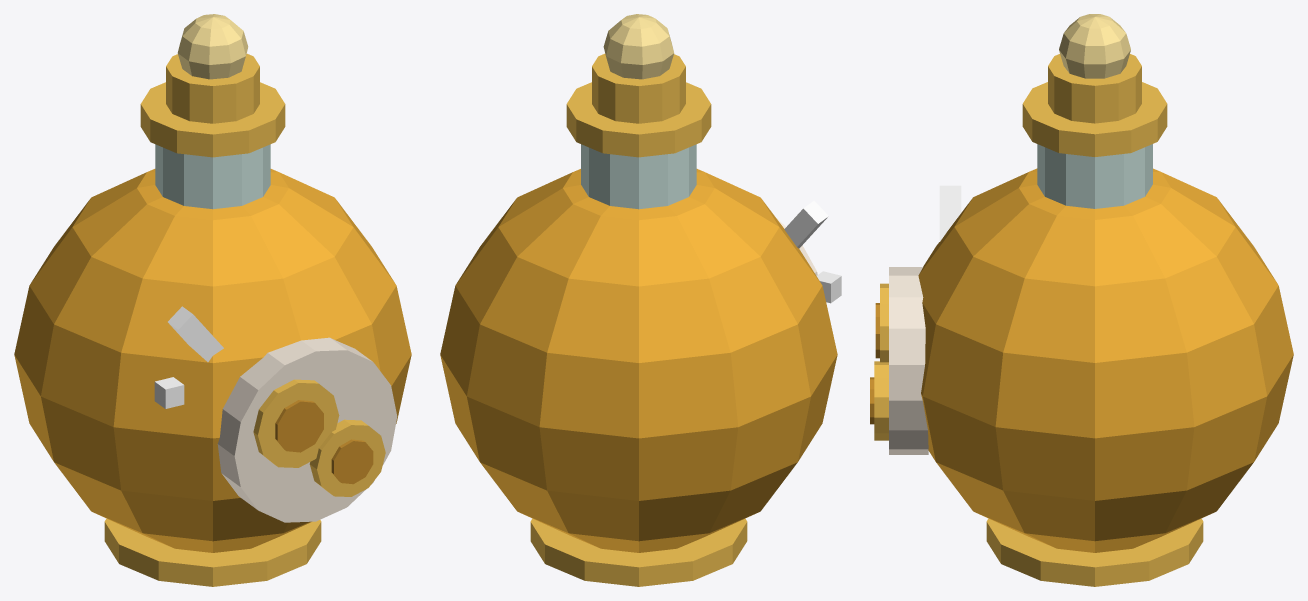
Rendered from CatCafe_Prop_Potion_BigTip.glb.
The picture shows the model from 3 angles, left to right: view 1: azimuth 30°, elevation 25°; view 2: azimuth 150°, elevation 25°; view 3: azimuth 270°, elevation 25°; orthographic projection.
Visible parts, largest first — view 1: CatCafe_Prop_Potion_BigTip; view 2: CatCafe_Prop_Potion_BigTip; view 3: CatCafe_Prop_Potion_BigTip.
Part boxes in pixels (bbox=[...]): CatCafe_Prop_Potion_BigTip: bbox=[14, 14, 411, 586]; CatCafe_Prop_Potion_BigTip: bbox=[440, 14, 841, 586]; CatCafe_Prop_Potion_BigTip: bbox=[870, 14, 1293, 586].
Bounding box in the file's own units: 1.1 × 1.6 × 1.17.
1 material, 1 textured.
